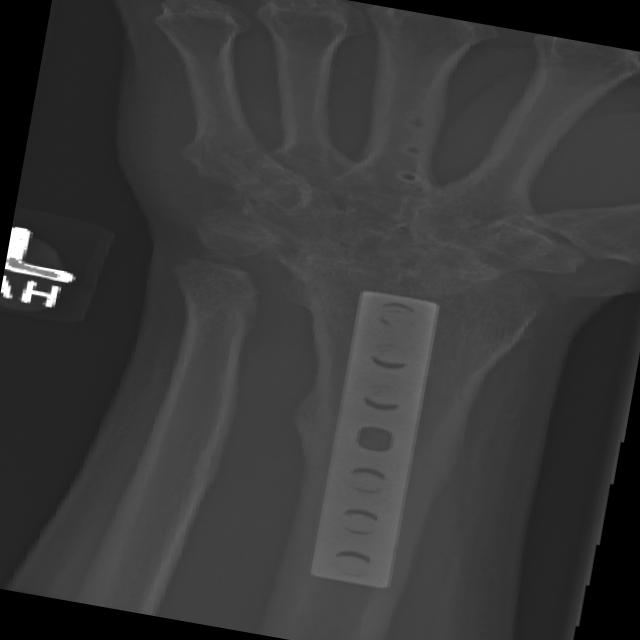wrist positive: (463, 169, 640, 295), (150, 224, 314, 347), (293, 203, 460, 306)
